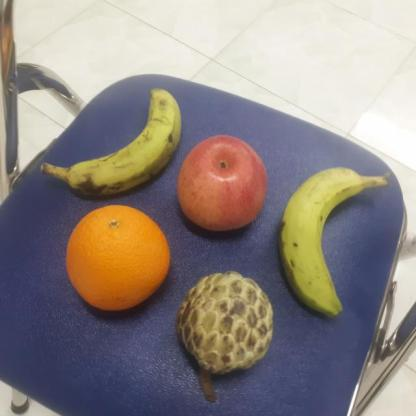annona: (177, 270, 276, 372)
apple: (176, 132, 272, 232)
banana: (274, 166, 368, 320), (66, 86, 183, 201)
orange: (62, 203, 170, 314)
